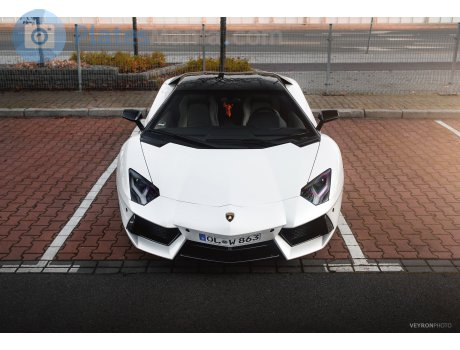License Plates: (190, 228, 269, 244)
